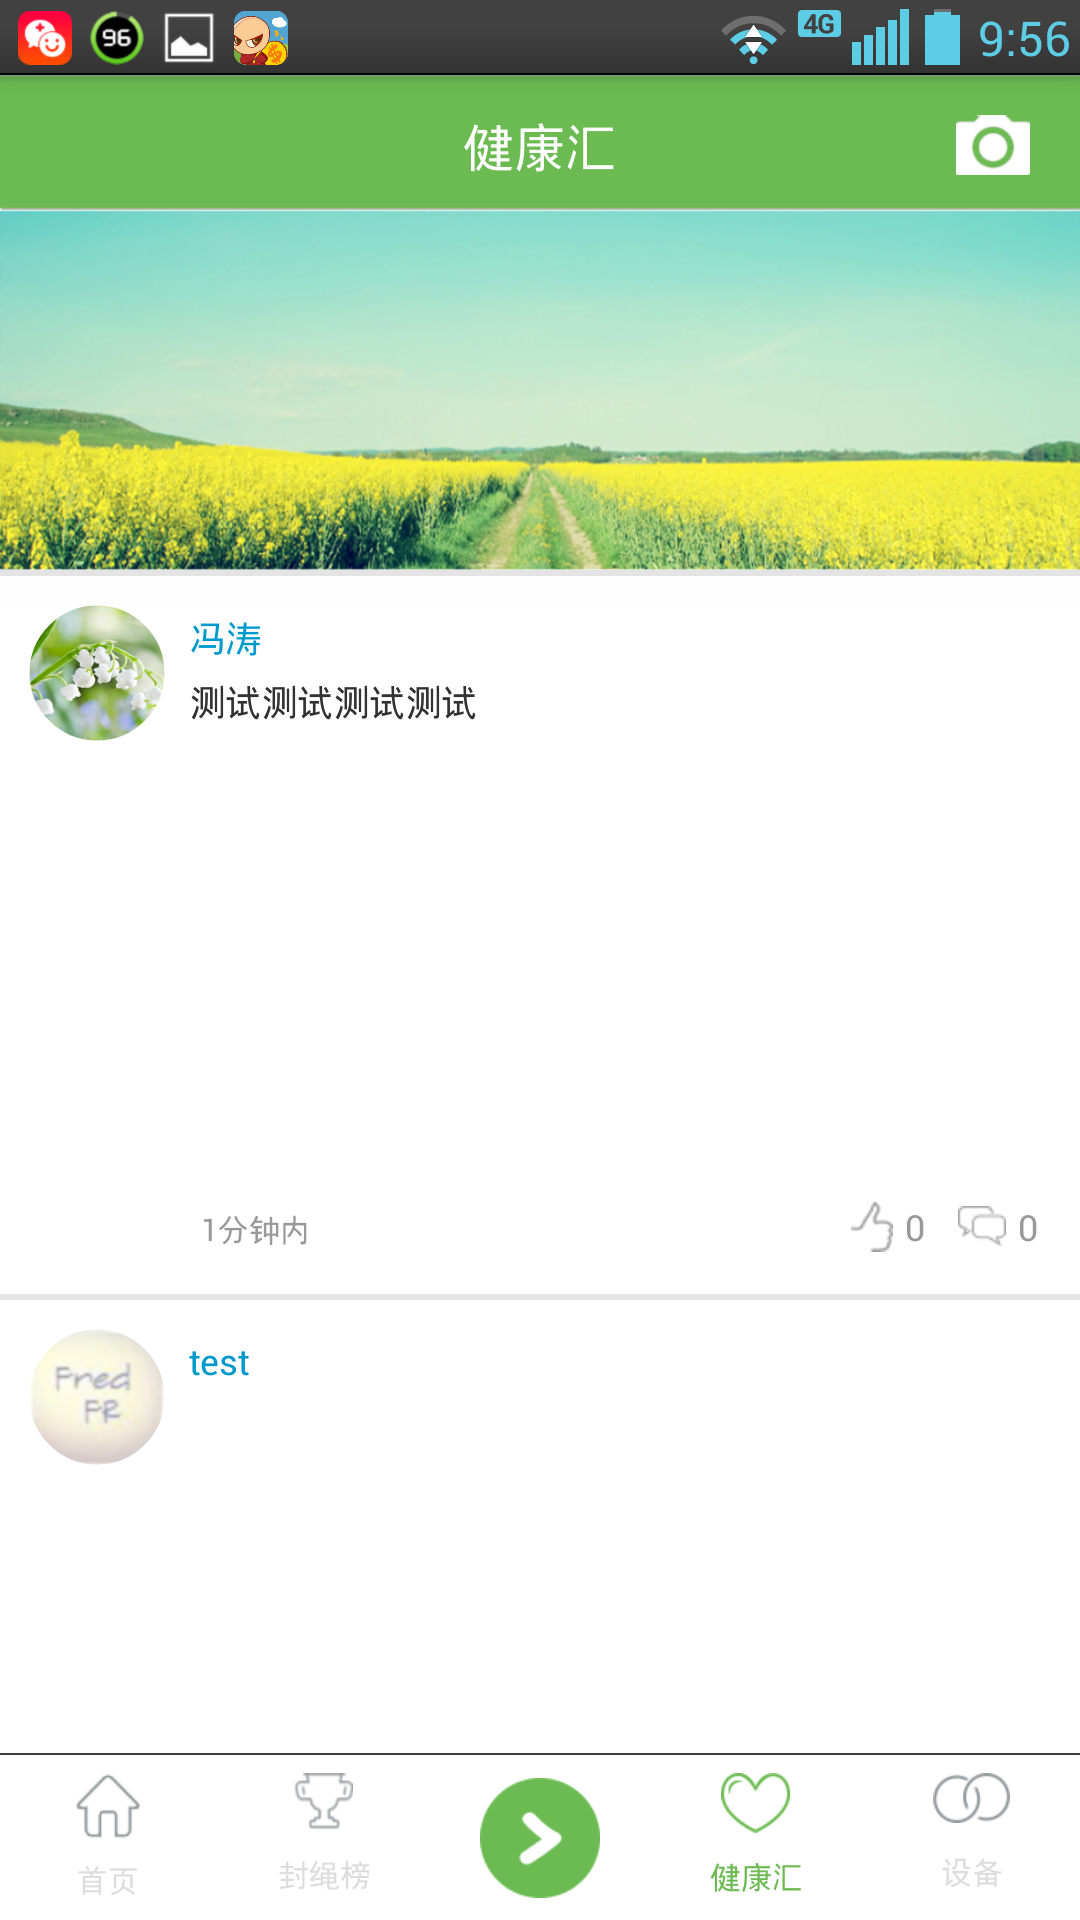imgbutton: (938, 100, 1044, 194)
imgview: (20, 1321, 169, 1472)
nav: (7, 1739, 1080, 1917)
textview: (185, 669, 502, 738)
